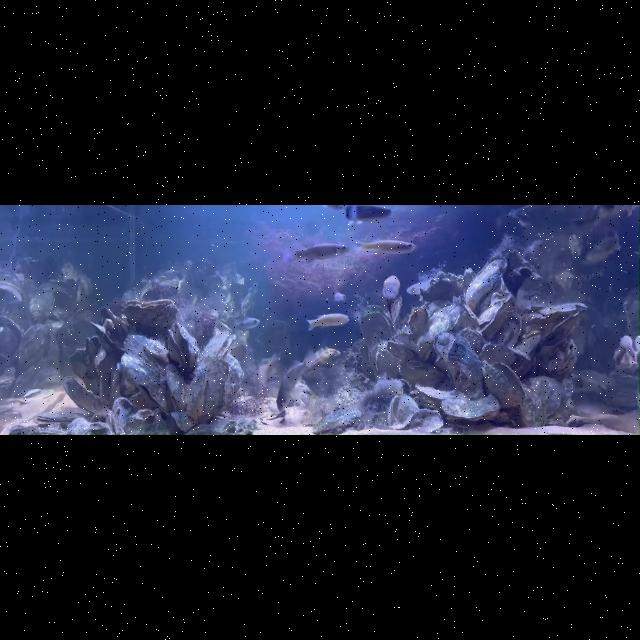Oyster-Closed: (432, 330, 486, 398), (416, 303, 459, 361), (465, 256, 507, 310), (20, 322, 52, 383), (66, 348, 102, 397), (440, 393, 500, 422), (524, 376, 564, 416), (546, 308, 586, 348), (61, 376, 102, 412), (523, 302, 587, 324), (420, 272, 464, 304), (208, 358, 230, 419), (518, 384, 548, 426), (187, 364, 209, 421), (0, 315, 22, 372), (100, 306, 132, 344), (224, 354, 244, 412), (492, 310, 524, 346), (165, 362, 187, 412), (399, 363, 443, 387), (452, 297, 481, 329), (110, 397, 134, 435), (457, 326, 487, 356), (410, 408, 444, 434), (481, 341, 515, 367), (37, 406, 91, 422), (140, 280, 178, 302), (89, 321, 117, 349), (407, 306, 429, 336), (386, 342, 416, 361)
Oyster-Open: (122, 332, 170, 413), (480, 358, 526, 408), (124, 298, 178, 330), (479, 292, 513, 340), (358, 302, 396, 343), (168, 322, 200, 370), (386, 395, 420, 429), (415, 383, 467, 405), (202, 330, 236, 362), (513, 329, 543, 356), (0, 280, 28, 308)
